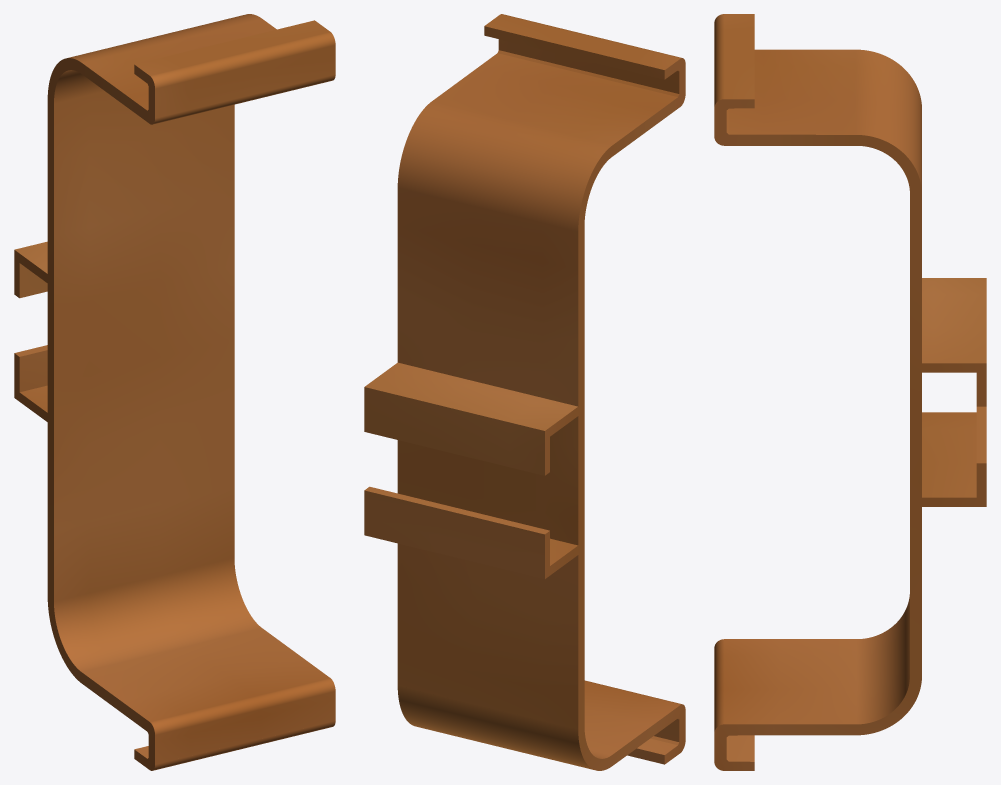
File: gola_c_1791786819905.glb
3 views of the same model, side by side, from view 1: azimuth 30°, elevation 25°; view 2: azimuth 150°, elevation 25°; view 3: azimuth 270°, elevation 25° (orthographic). The views are drawn at different scales.
Visible parts, largest first — view 1: Профиль Gola C; view 2: Профиль Gola C; view 3: Профиль Gola C.
Boxes of the visible parts, x1,y1,x2,y2 form: Профиль Gola C: [14, 14, 335, 770]; Профиль Gola C: [364, 14, 685, 770]; Профиль Gola C: [714, 14, 986, 770].
Size of the model in its own units: 0.02 by 0.0735 by 0.027.
Materials: 1 (1 with a texture image).
